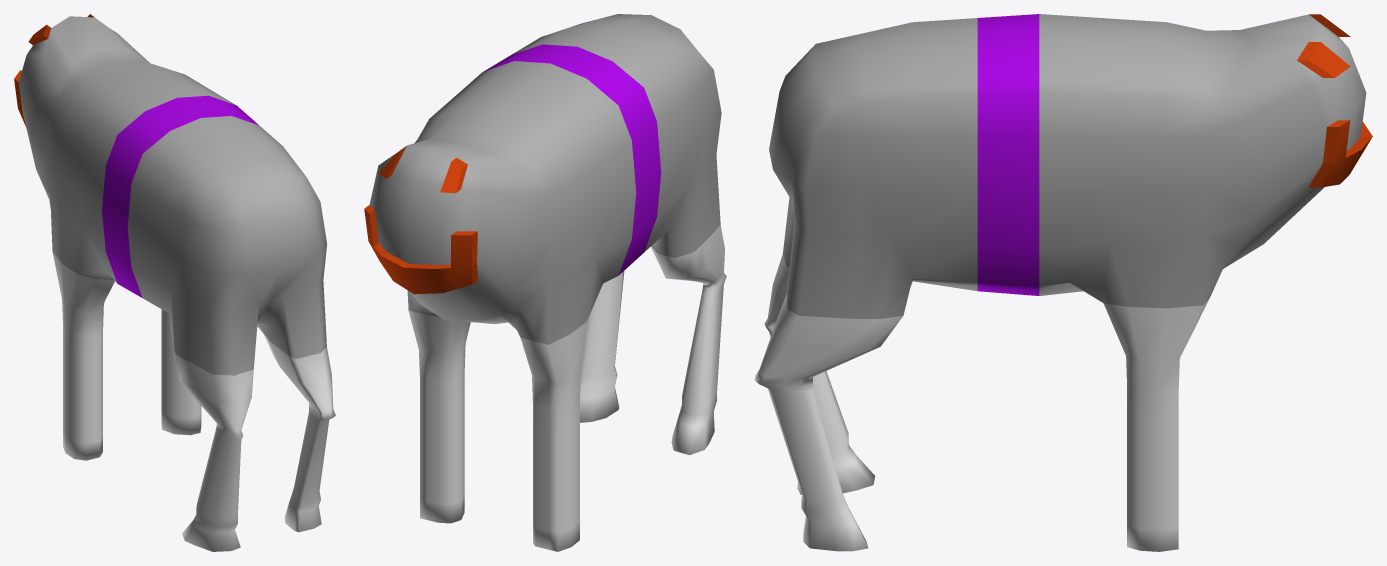
The model's file is Blender_Frederick.fbx.
3 views of the same model, side by side, from view 1: azimuth 30°, elevation 25°; view 2: azimuth 150°, elevation 25°; view 3: azimuth 270°, elevation 25° (orthographic). The views are drawn at different scales.
Visible parts, largest first — view 1: pCube1; view 2: pCube1; view 3: pCube1.
Part boxes in pixels (x1,y1,x2,y2): pCube1: (14, 14, 335, 551); pCube1: (364, 14, 726, 551); pCube1: (755, 14, 1372, 551).
Size of the model in its own units: 162 by 393 by 449.
